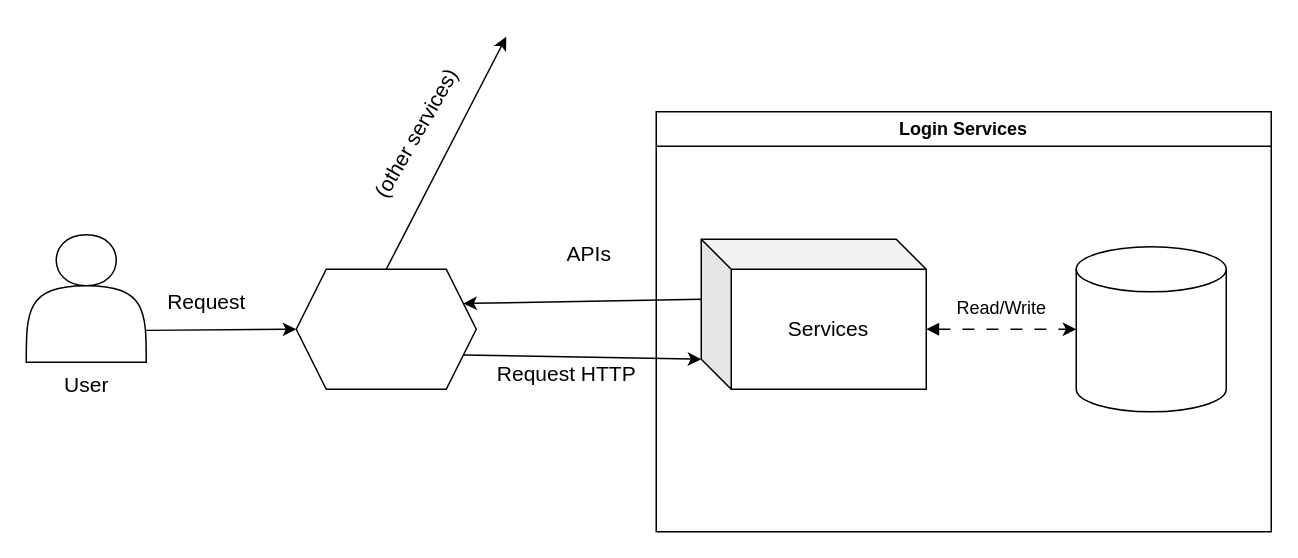
The diagram is 1298 pixels wide and 558 high, and some of its shapes have lost their labels. The centre of each missing label's shape, as x and y in pixels:
"API Gateway" goes at pixel 385 328.
"Database" goes at pixel 1150 328.
